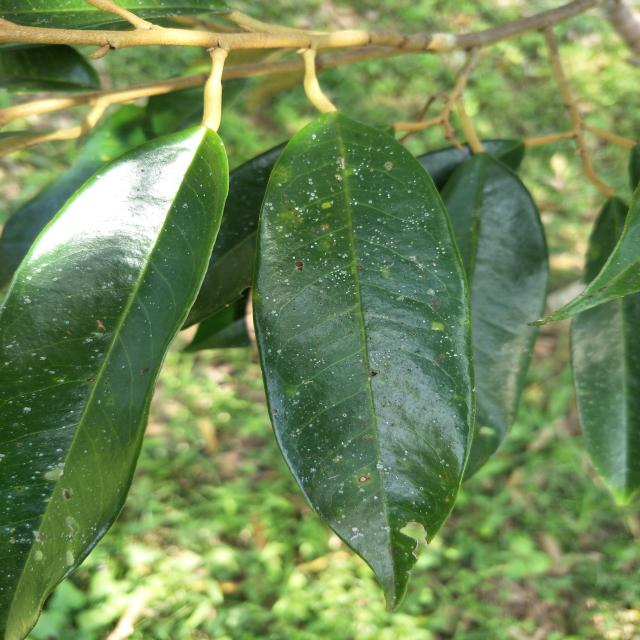Leaf Spot: (293, 153, 458, 497), (0, 231, 175, 534)
